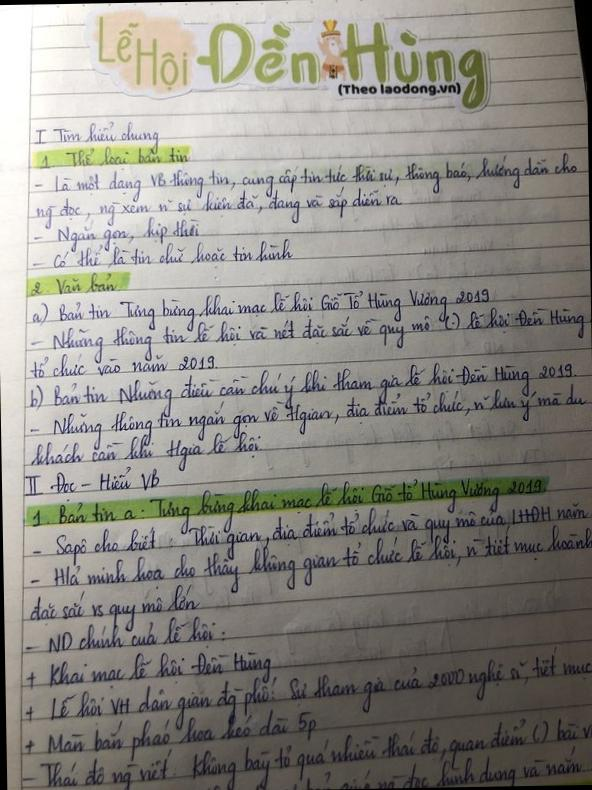text: (23, 641, 592, 737), (89, 6, 495, 124), (15, 707, 592, 790), (26, 520, 592, 599), (28, 494, 592, 569), (27, 380, 588, 455), (27, 300, 592, 366), (27, 358, 580, 422), (26, 474, 545, 540), (50, 150, 580, 206), (30, 284, 494, 337), (19, 708, 320, 770), (31, 184, 404, 230), (193, 749, 592, 790), (24, 646, 276, 695), (26, 428, 262, 478), (24, 582, 204, 637), (48, 235, 296, 274), (26, 614, 226, 656), (25, 347, 220, 383), (52, 214, 206, 256), (21, 465, 162, 506), (30, 120, 162, 158), (36, 143, 192, 172), (336, 78, 461, 101), (26, 270, 120, 300)
